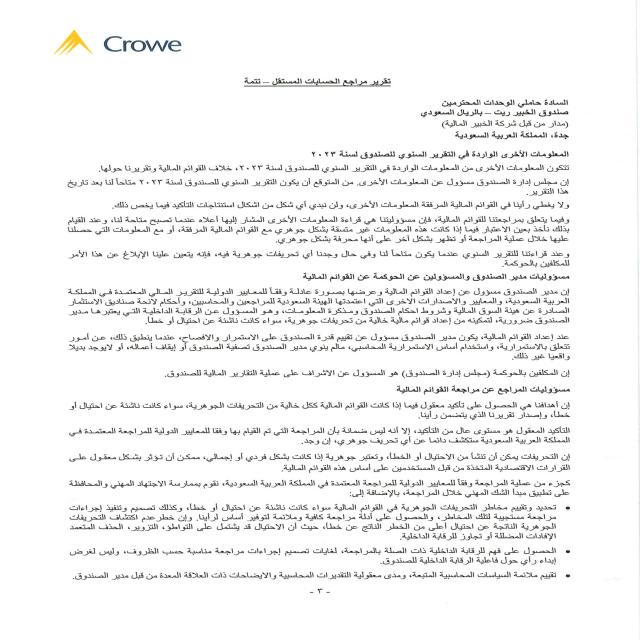auditor_report: (232, 70, 396, 97)
